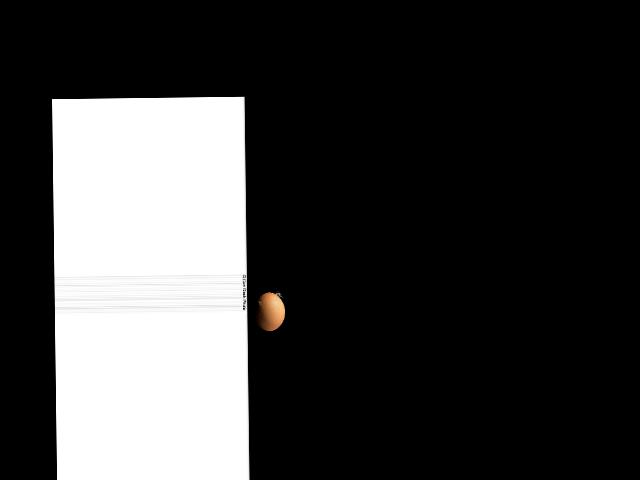egg: (253, 292, 284, 331)
